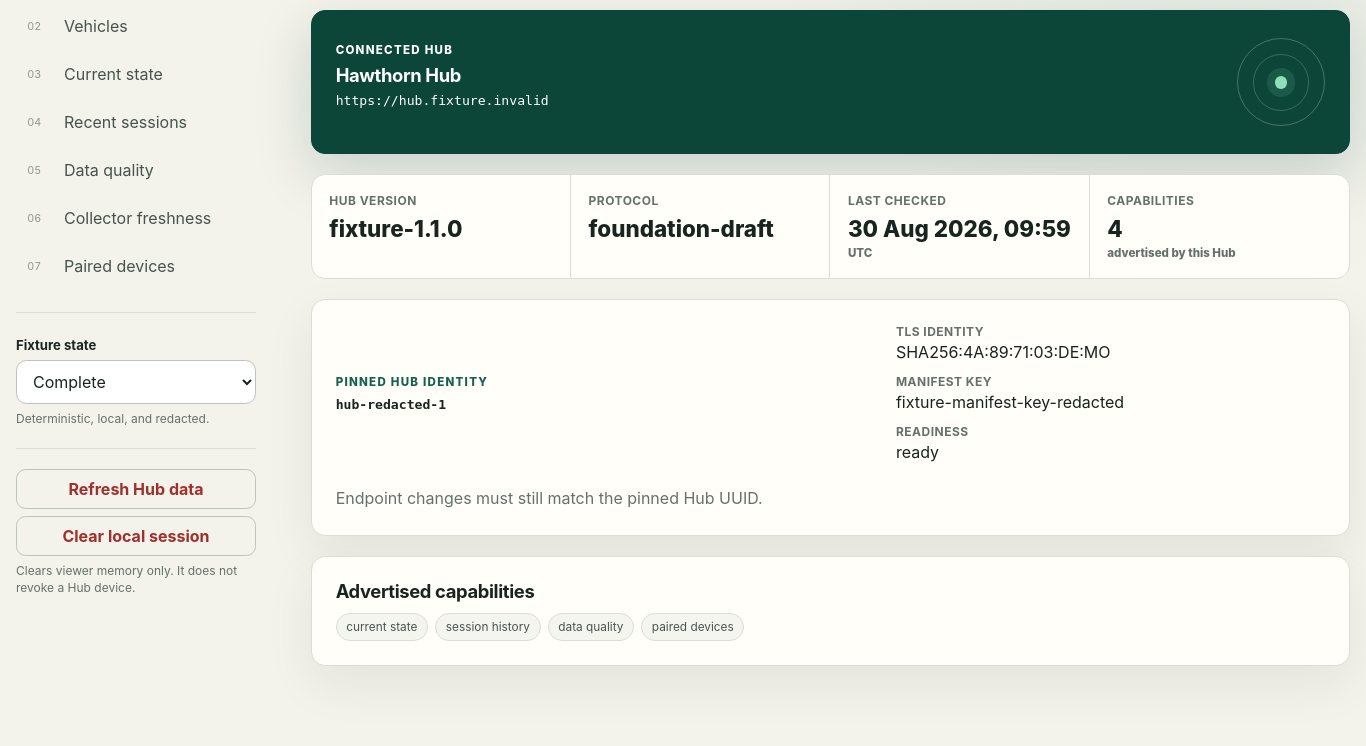
Scenario: App discovery and pairing › clears the in-memory viewer session and returns to discovery
(page scrolled)
Step 1. Click the button "Clear local session" → (136, 536), box [16,516,256,556]
(page scrolled)
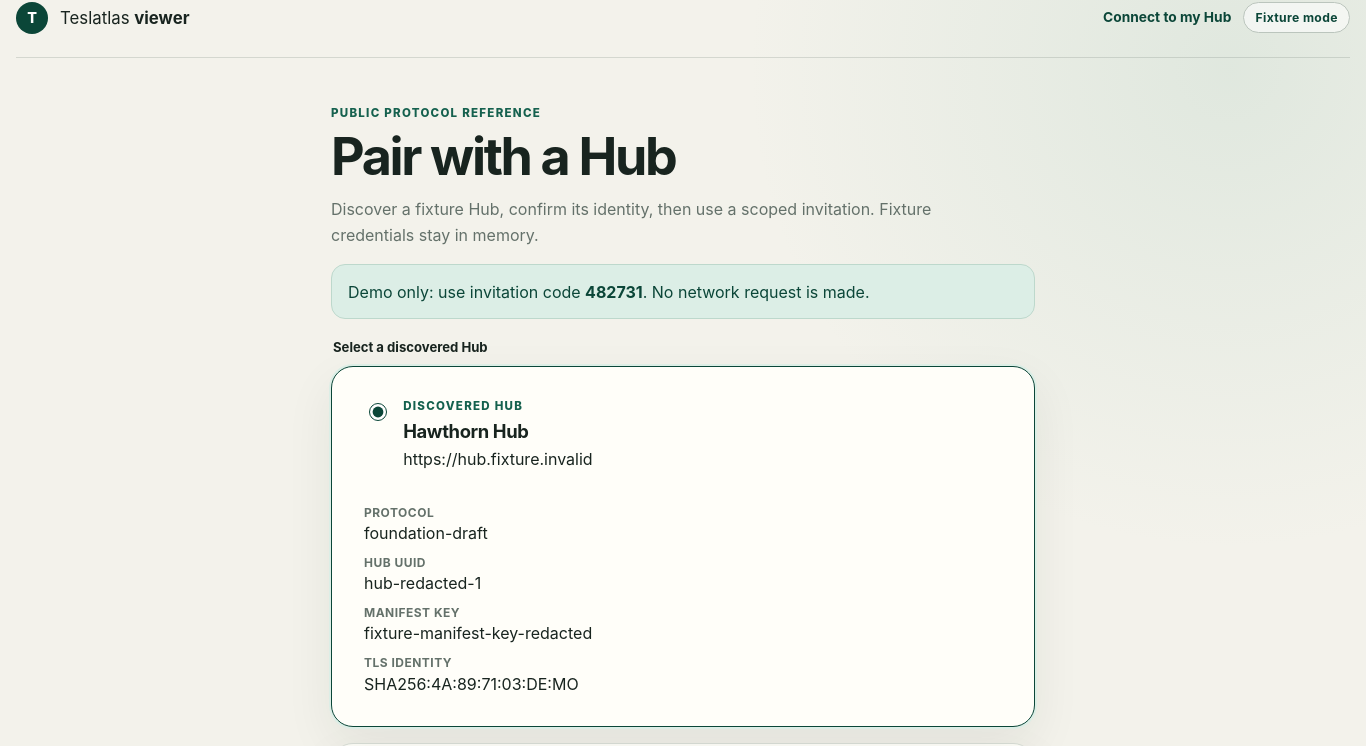
Expected: the heading "Pair with a Hub" is shown, [331,125,675,188]
